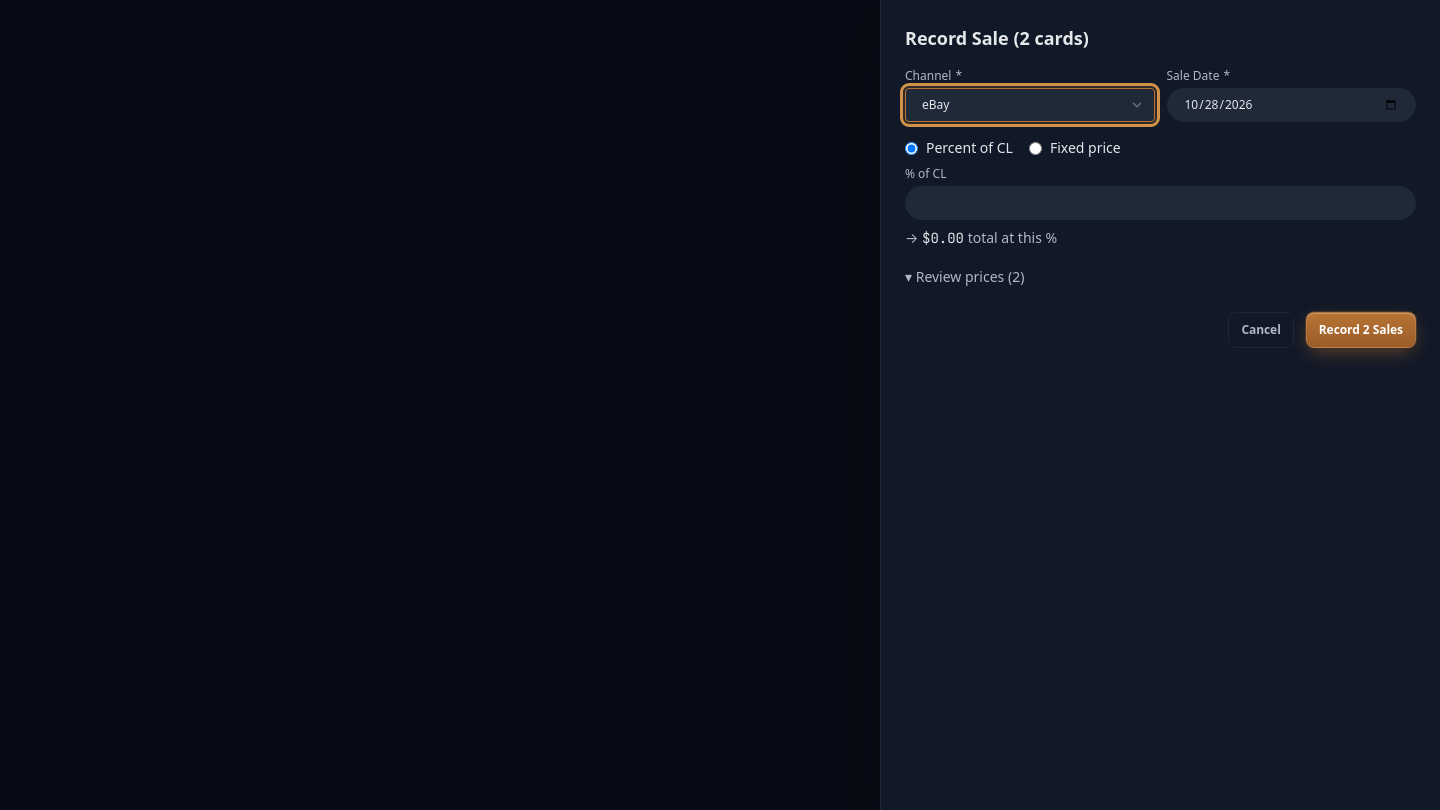
Test: BulkRecordSaleModal › hides the per-row review by default and reveals it on click
Expected: the text "Card 1" is not shown
Expected: the text "Card 2" is not shown
What coordinates should you click on to do the following:
click the button "▾ Review prices (2)"
I would click on:
 (965, 277)
Its box is [905,267,1024,287].
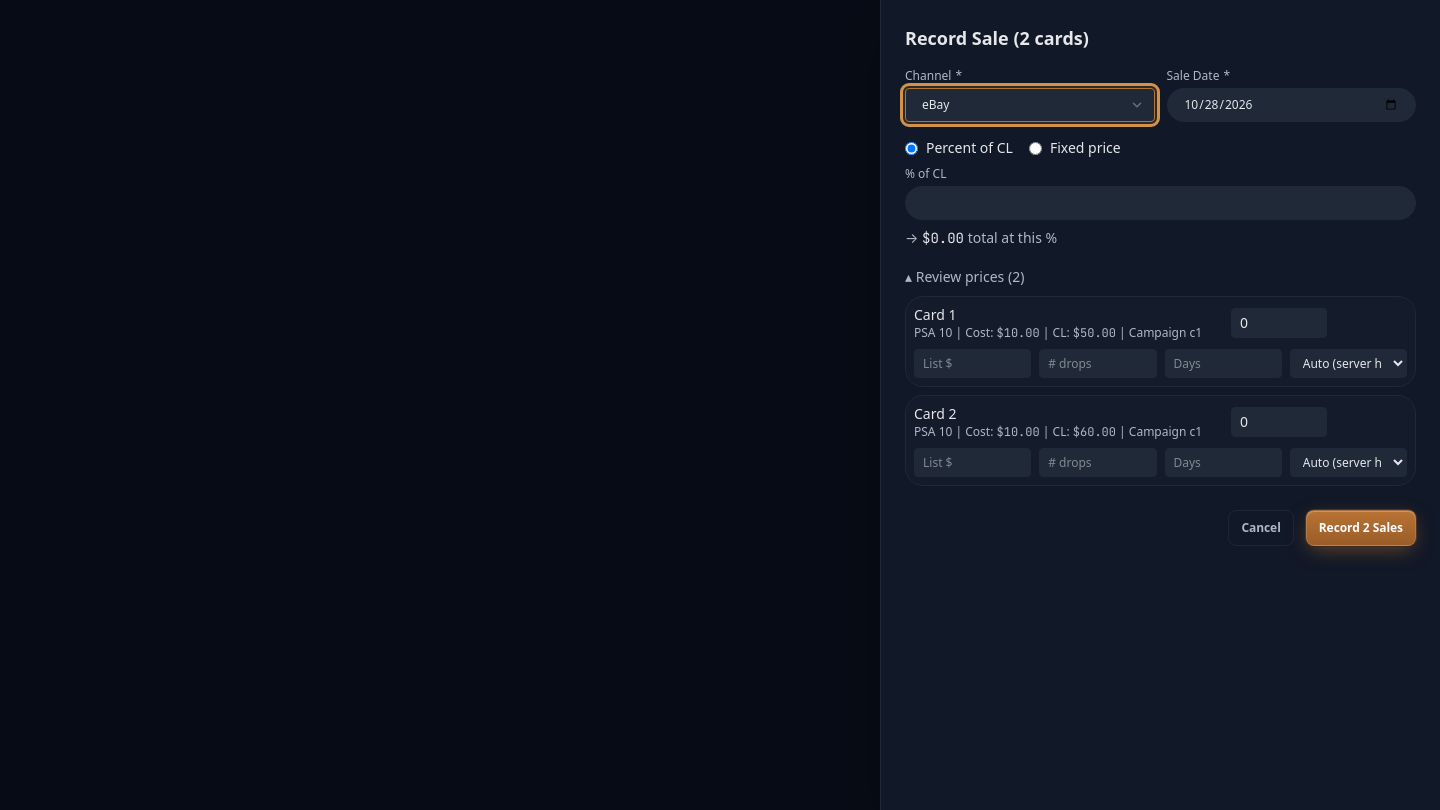
Expected: the text "Card 1" is shown, [914,305,956,324]
Expected: the text "Card 2" is shown, [914,404,956,423]
